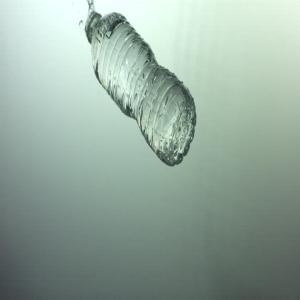Plastic-bottle: (85, 3, 199, 171)
